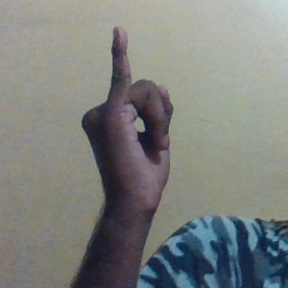I: (80, 27, 175, 208)
